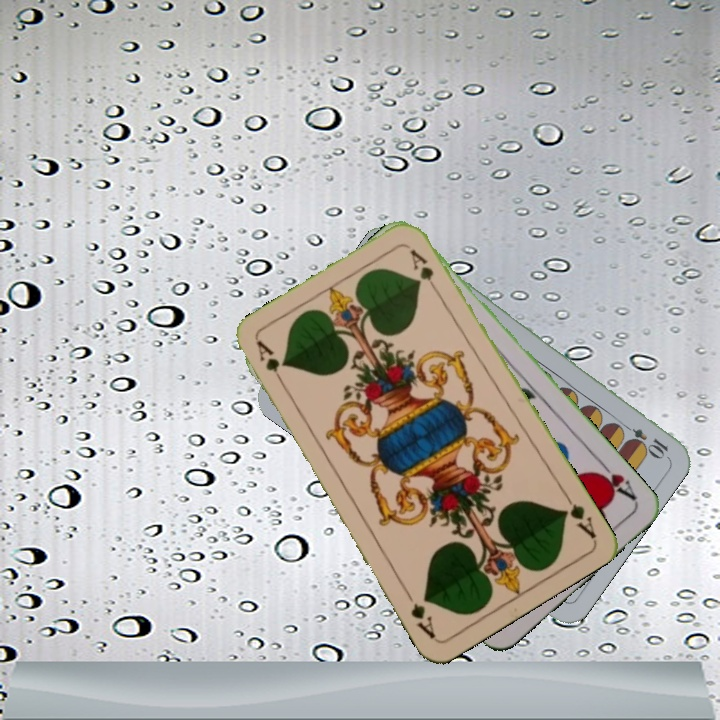E10: (616, 419, 671, 460)
GA: (558, 488, 599, 541), (252, 337, 289, 392)
HA: (589, 456, 639, 504)
